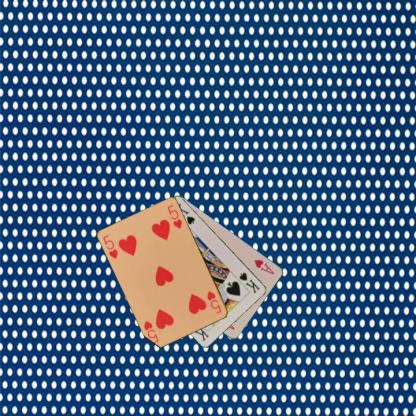5h: (101, 232, 119, 260), (205, 288, 223, 315)
Ah: (252, 256, 276, 275)
Ks: (237, 270, 262, 294)
